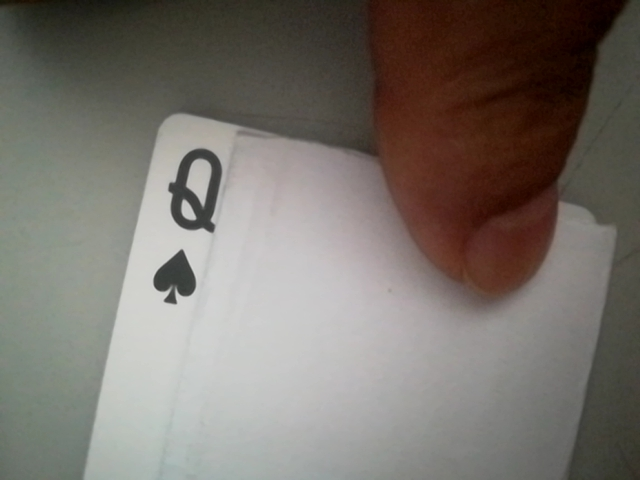ht q: (140, 129, 242, 311)
